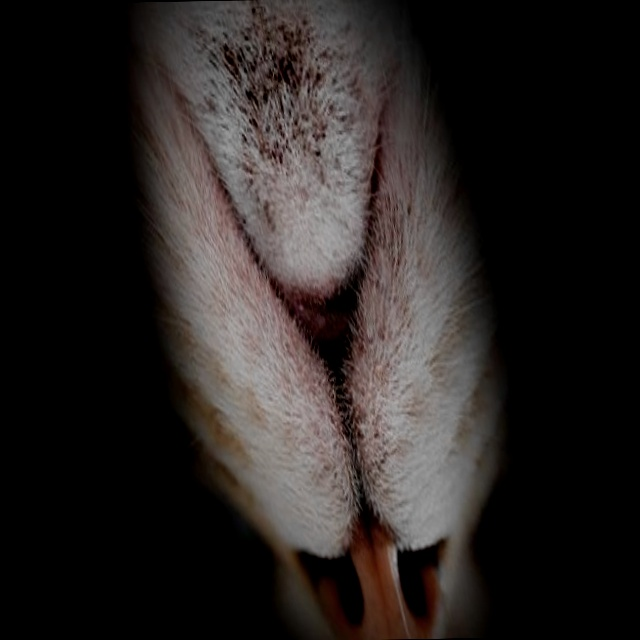acne: (214, 3, 342, 188)
